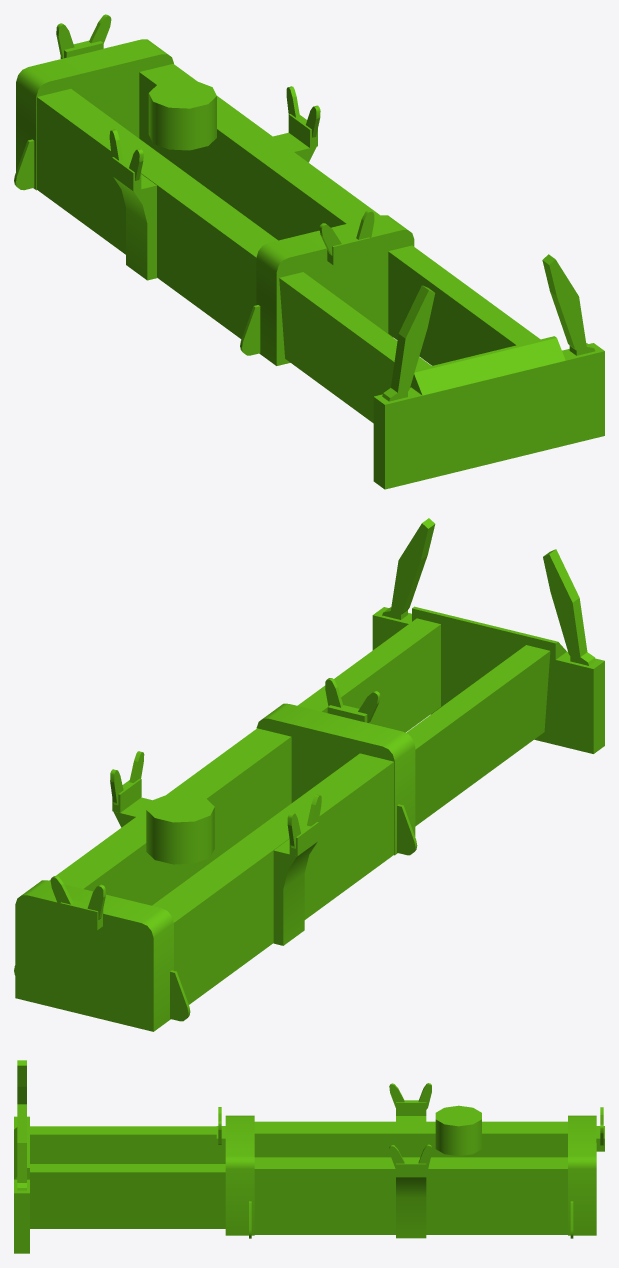
File: cargoHook_collisionMesh.FBX
3 views of the same model, one above another, from view 1: azimuth 30°, elevation 25°; view 2: azimuth 150°, elevation 25°; view 3: azimuth 270°, elevation 25° (orthographic). The views are drawn at different scales.
Visible parts, largest first — view 1: UCX_collider_cargo_hook, UCX_collider_cargo_hook_side_panel; view 2: UCX_collider_cargo_hook, UCX_collider_cargo_hook_side_panel; view 3: UCX_collider_cargo_hook, UCX_collider_cargo_hook_side_panel.
Part boxes in pixels (x1,y1,x2,y2): UCX_collider_cargo_hook: (14, 14, 414, 365); UCX_collider_cargo_hook_side_panel: (279, 245, 604, 489); UCX_collider_cargo_hook: (14, 678, 417, 1031); UCX_collider_cargo_hook_side_panel: (297, 518, 604, 826); UCX_collider_cargo_hook: (216, 1083, 604, 1238); UCX_collider_cargo_hook_side_panel: (14, 1060, 225, 1253).
Bounding box in the file's own units: 244 × 197 × 797.
